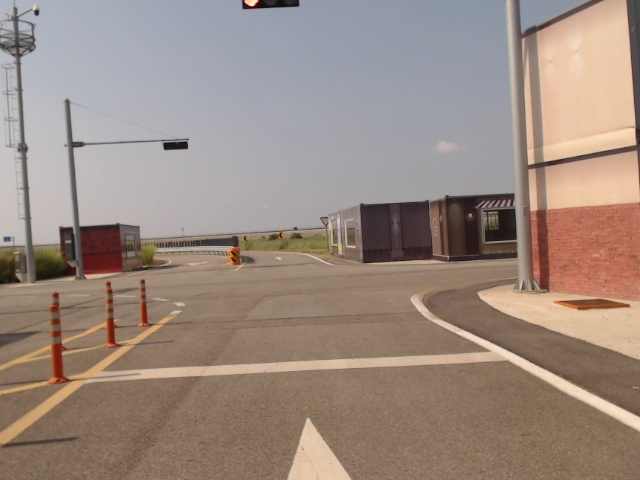red_3: (241, 0, 299, 10)
